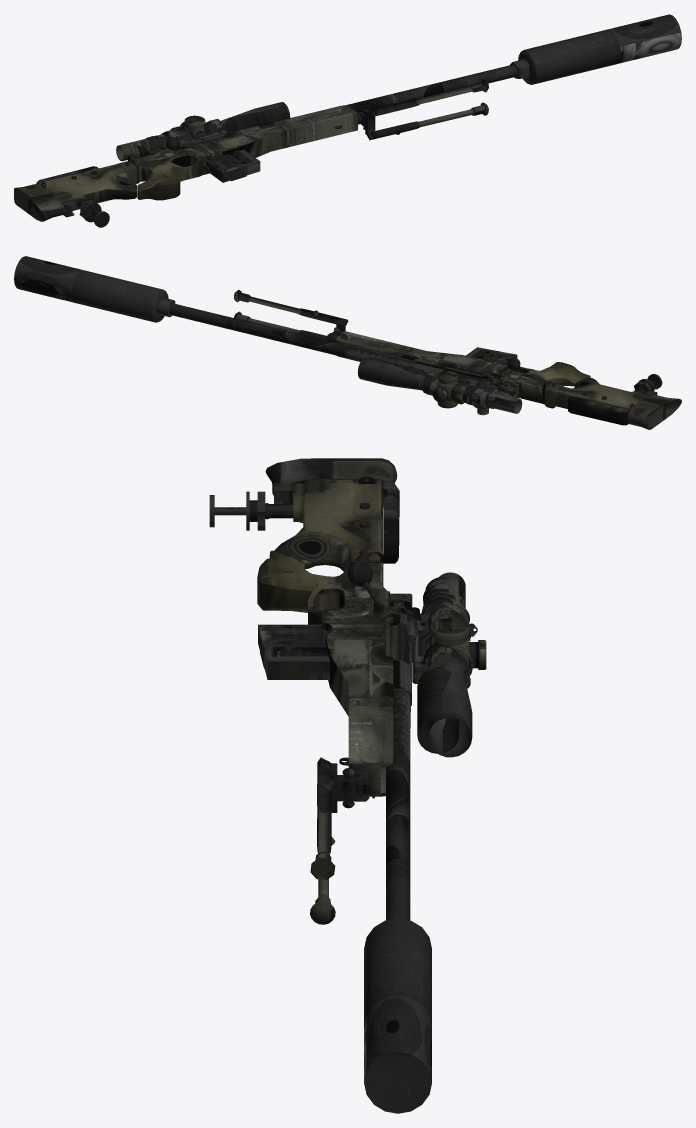
Rendered from t5_weapon_l96a1_viewmodel.glb.
3 renders of one model, top to bottom at view 1: azimuth 30°, elevation 25°; view 2: azimuth 150°, elevation 25°; view 3: azimuth 270°, elevation 25°, orthographic. The views are drawn at different scales.
Parts seen in each view (by area): view 1: t5_weapon_l96a1_viewmodel; view 2: t5_weapon_l96a1_viewmodel; view 3: t5_weapon_l96a1_viewmodel.
Part boxes in pixels (box(x1,y1,x2,y2)): t5_weapon_l96a1_viewmodel: box(14, 14, 681, 227); t5_weapon_l96a1_viewmodel: box(14, 256, 681, 429); t5_weapon_l96a1_viewmodel: box(209, 458, 486, 1113).
Size of the model in its own units: 1.85 by 0.1175 by 0.3537.
11 materials, 11 textured.
